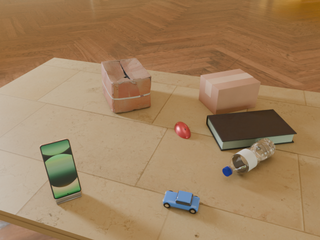book: (206, 109, 297, 151)
bottle: (223, 138, 276, 176)
box: (199, 69, 261, 114), (101, 58, 151, 113)
mouse: (175, 122, 191, 139)
phone: (40, 138, 81, 199)
toy_car: (162, 191, 200, 214)
